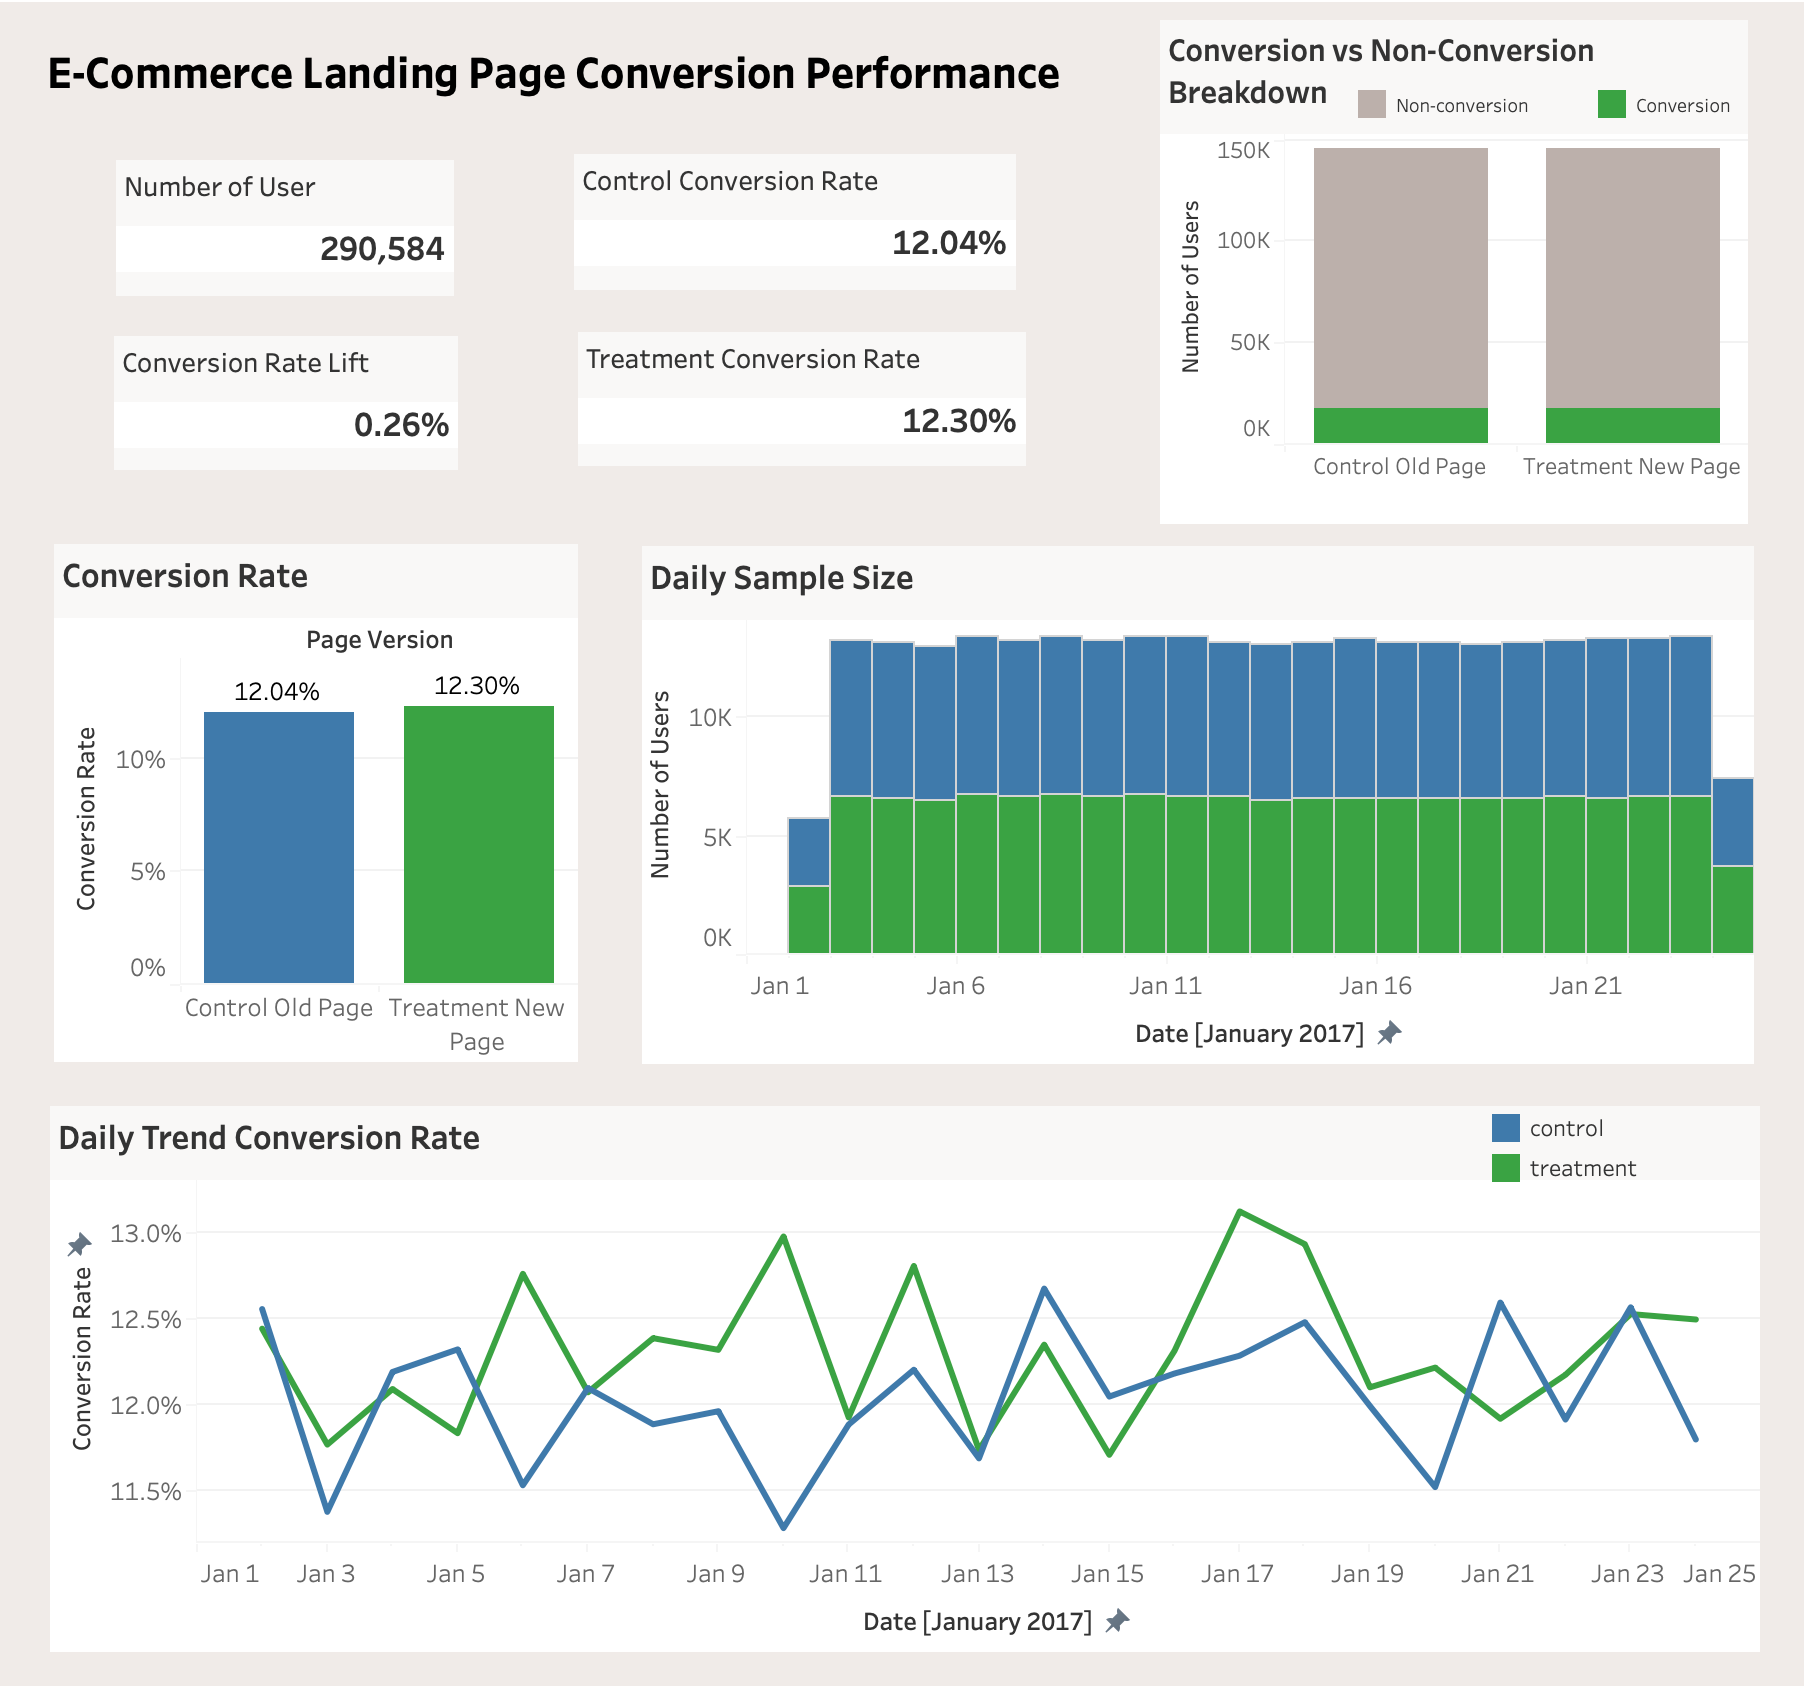

The dashboard page shown, as its layout file describes it:
{"tool":"tableau","page":{"name":"Dashboard 1","canvas":[1000,1000],"units":"permille","ordinal":0},"visuals":[{"type":"text","box":[16.3,16.3,589.1,69.8]},{"type":"worksheet","title":"Conversion vs Non-Conversion Breakdown","mark":"Bar","rows":["Calculation_2167075851349520385"],"cols":["Calculation_2167075851351097349"],"box":[640.2,20.9,319.6,293]},{"type":"worksheet","title":"Control Conversion Rate","mark":"Automatic","box":[321.7,98.8,240.2,79.1]},{"type":"worksheet","title":"Number of User","mark":"Automatic","box":[72.8,102.3,183.7,79.1]},{"type":"worksheet","title":"Treatment Conversion Rate","mark":"Automatic","box":[323.9,202.3,243.5,77.9]},{"type":"worksheet","title":"Conversion Rate Lift","mark":"Automatic","box":[71.7,204.7,187,77.9]},{"type":"worksheet","title":"Conversion Rate","mark":"Automatic","rows":["Calculation_2167075851349958659"],"cols":["Calculation_2167075851351097349"],"box":[39.1,325.6,284.8,301.2]},{"type":"worksheet","title":"Daily Sample Size","mark":"Bar","rows":["Calculation_2167075851349520385"],"cols":["Calculation_2167075851349323776"],"box":[358.7,326.7,604.4,301.2]},{"type":"worksheet","title":"Daily Conversion Rate","mark":"Automatic","rows":["Calculation_2167075851349958659"],"cols":["Calculation_2167075851349323776"],"box":[37,652.3,929.4,317.4]},{"type":"legend","title":"Conversion Rate","param":"[federated.0riws090mnvw4d1en5vmo0bwpojh].[none:group:nk]","box":[817.4,653.5,102.2,80.2]}]}

Visuals, with their boxes on the dashboard's canvas, which has no fixed pixel size, in thousandths of its width and height (x1, y1, x2, y2). These are canvas units, not pixel positions in the 1806x1690 screenshot, which may show the page scaled, cropped or inside an application window:
text: <region>16, 16, 605, 86</region>
"Conversion vs Non-Conversion Breakdown" worksheet (Bar marks): <region>640, 21, 960, 314</region>
"Control Conversion Rate" worksheet: <region>322, 99, 562, 178</region>
"Number of User" worksheet: <region>73, 102, 256, 181</region>
"Treatment Conversion Rate" worksheet: <region>324, 202, 567, 280</region>
"Conversion Rate Lift" worksheet: <region>72, 205, 259, 283</region>
"Conversion Rate" worksheet: <region>39, 326, 324, 627</region>
"Daily Sample Size" worksheet (Bar marks): <region>359, 327, 963, 628</region>
"Daily Conversion Rate" worksheet: <region>37, 652, 966, 970</region>
"Conversion Rate" legend: <region>817, 654, 920, 734</region>
